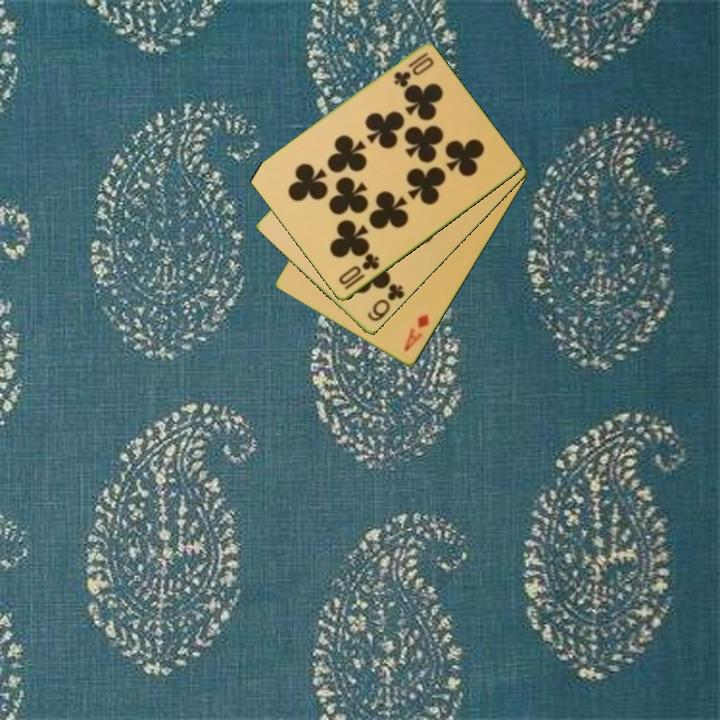10c: (335, 250, 383, 293), (390, 49, 431, 90)
6c: (364, 280, 408, 325)
Ad: (400, 310, 432, 355)
